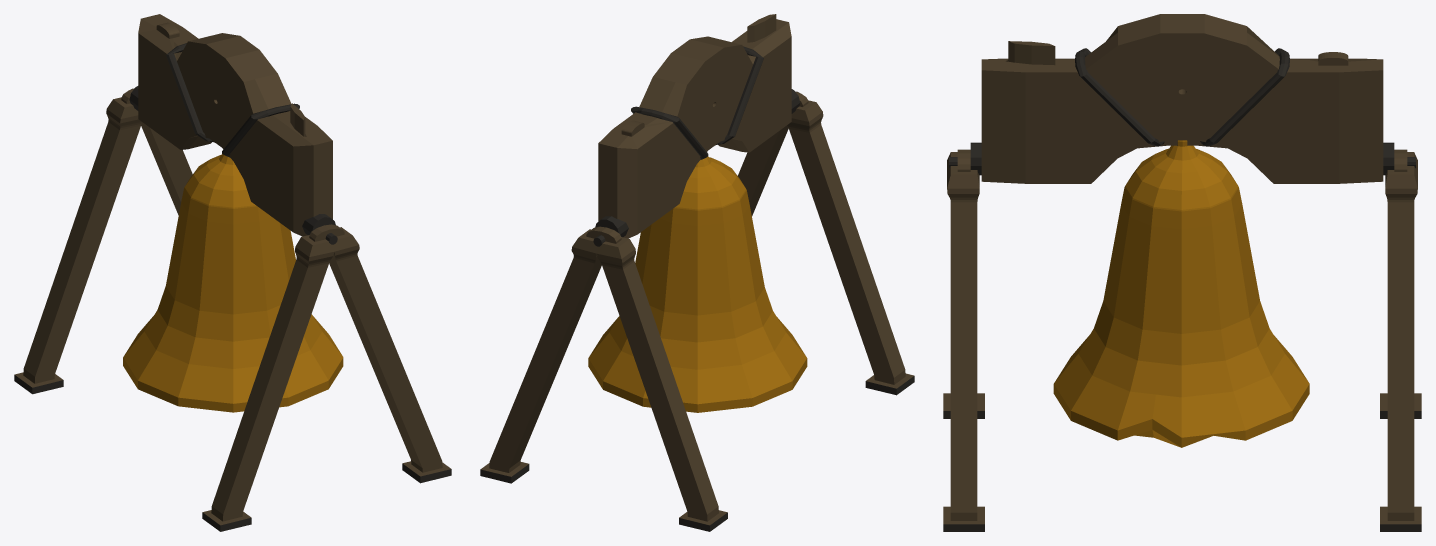
File: Ban_1.fbx
3 views of the same model, side by side, from view 1: azimuth 30°, elevation 25°; view 2: azimuth 150°, elevation 25°; view 3: azimuth 270°, elevation 25° (orthographic). The views are drawn at different scales.
Parts seen in each view (by area): view 1: Cube.021, Cylinder.014, Cube.023, Cylinder.015, Cylinder.013; view 2: Cube.021, Cylinder.014, Cube.023, Cylinder.015, Cylinder.013; view 3: Cube.023, Cylinder.014, Cube.021, Cylinder.015, Cylinder.013.
Part boxes in pixels (x1,y1,x2,y2): Cube.021: (14, 88, 451, 531); Cylinder.014: (123, 154, 343, 412); Cube.023: (138, 14, 332, 236); Cylinder.015: (166, 43, 299, 157); Cylinder.013: (129, 86, 335, 235); Cube.021: (480, 91, 914, 531); Cylinder.014: (588, 156, 807, 412); Cube.023: (598, 14, 791, 238); Cylinder.015: (631, 46, 763, 159); Cylinder.013: (595, 89, 800, 237); Cube.023: (981, 14, 1383, 183); Cylinder.014: (1053, 140, 1309, 447); Cube.021: (943, 149, 1421, 531); Cylinder.015: (1075, 48, 1289, 146); Cylinder.013: (970, 142, 1394, 175).
Size of the model in its own units: 438 by 691 by 676.
